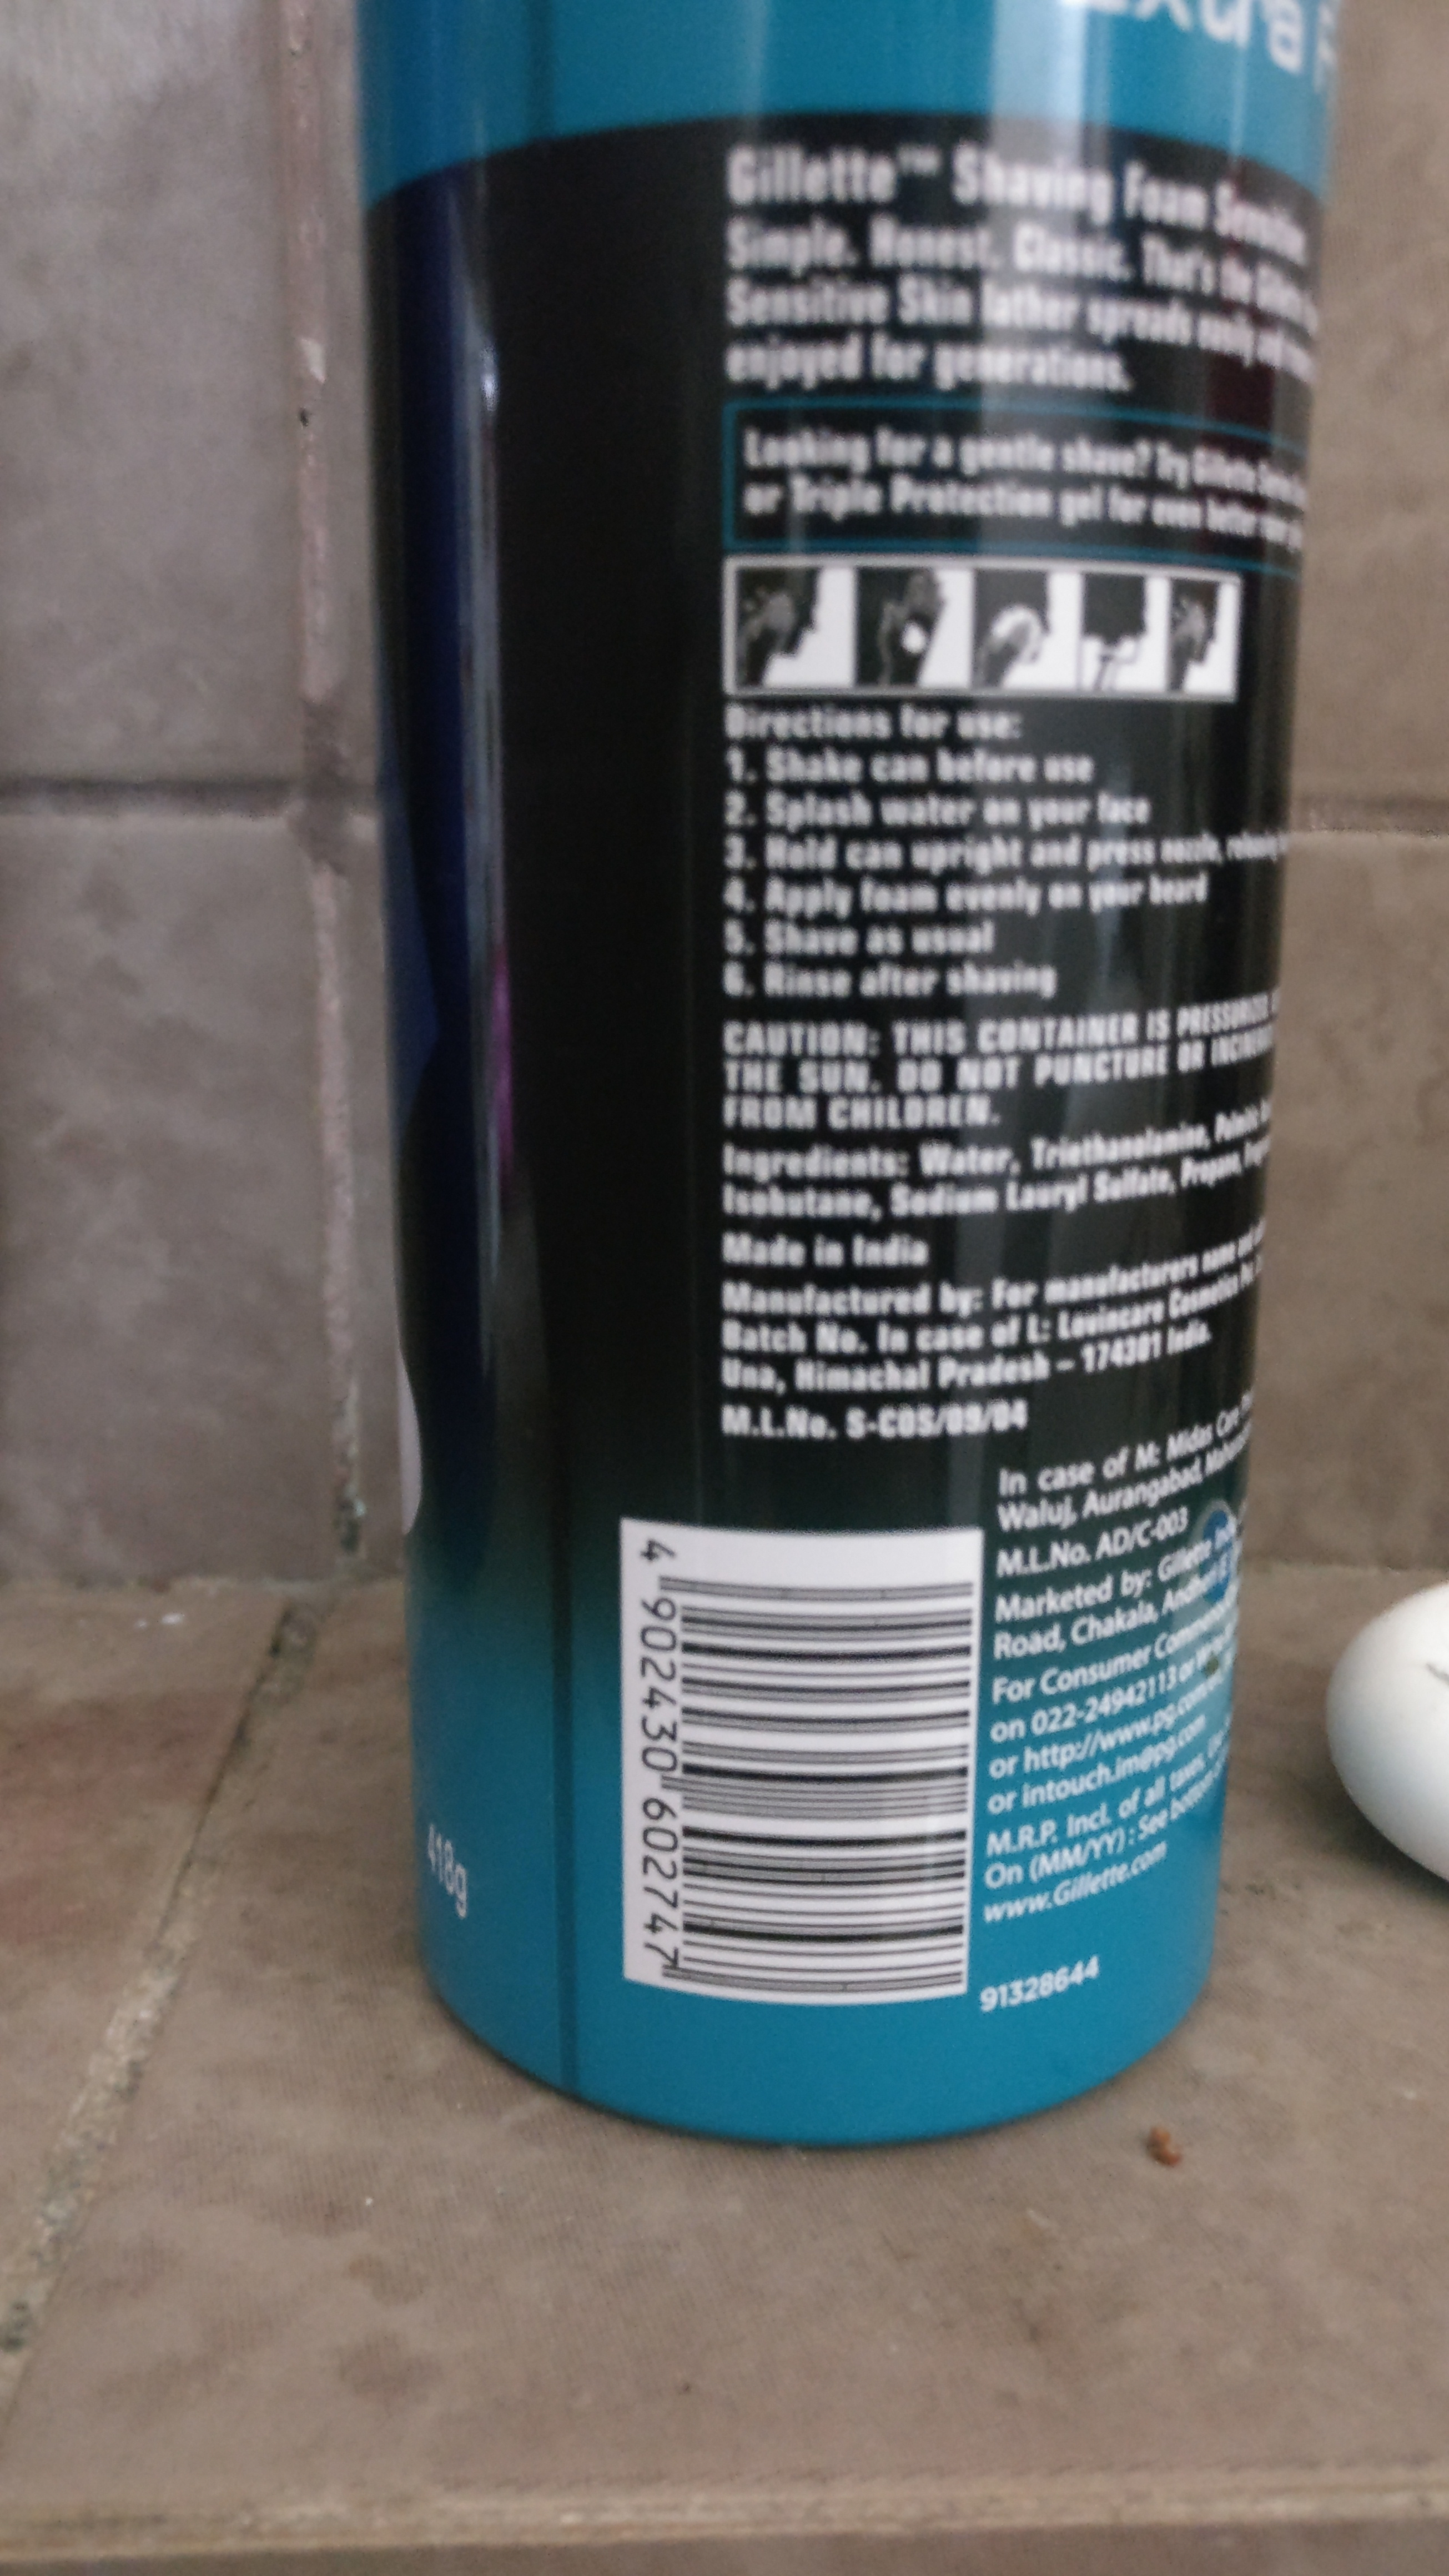barcode: (633, 1516, 989, 2015)
